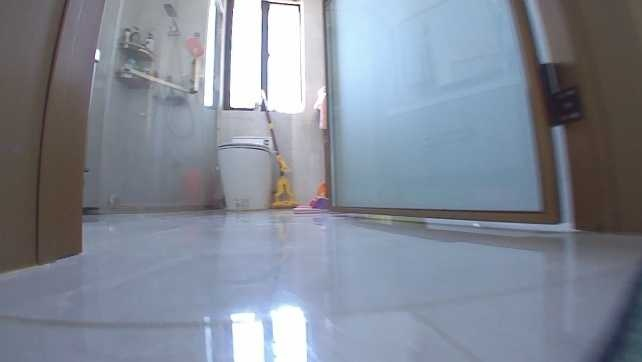door_anno: (319, 1, 639, 232)
toilet: (213, 135, 275, 212)
